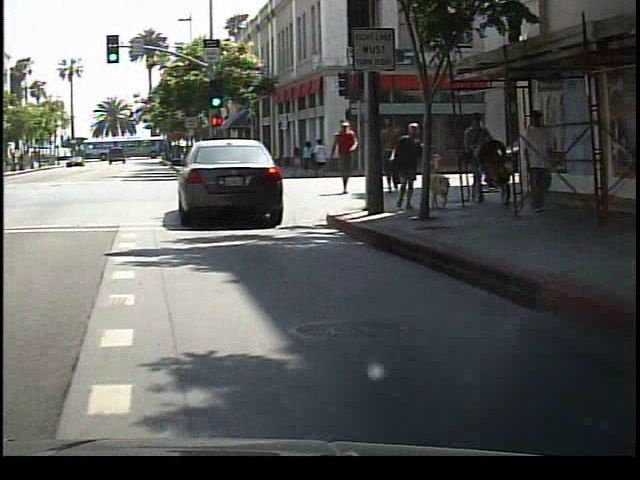person: (330, 114, 365, 198), (372, 110, 405, 198)
